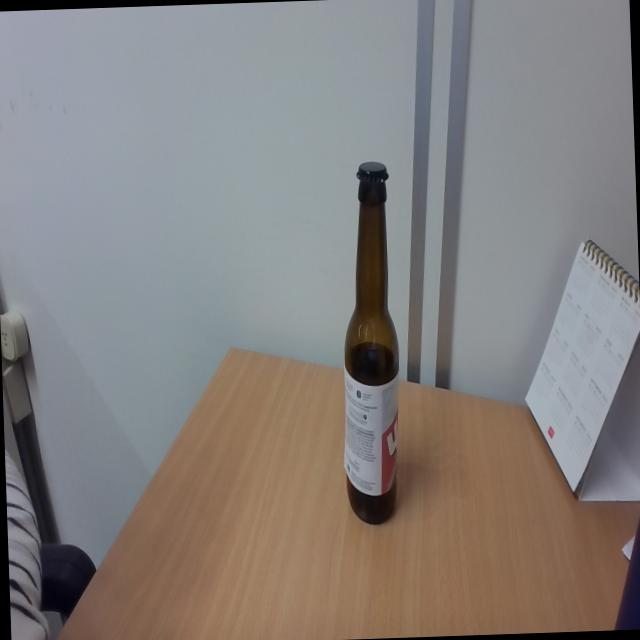Bottle: (334, 157, 406, 526)
Cap: (352, 160, 392, 186)
Label: (343, 376, 401, 494)
